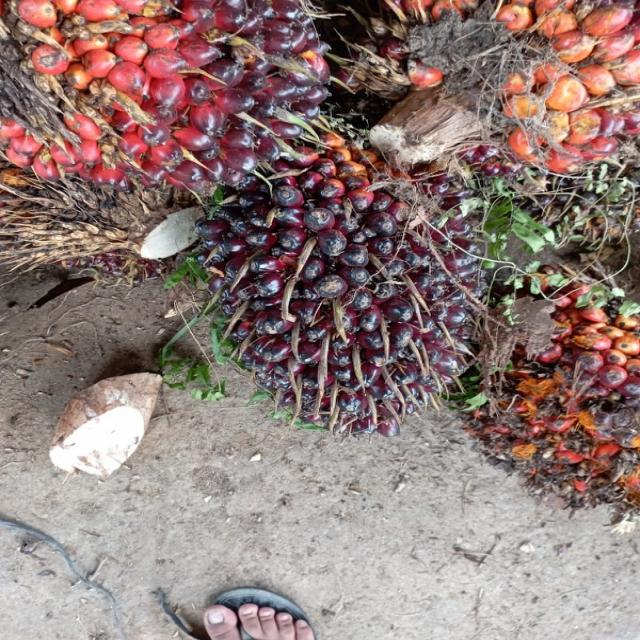fraksi 1: (181, 136, 510, 462)
